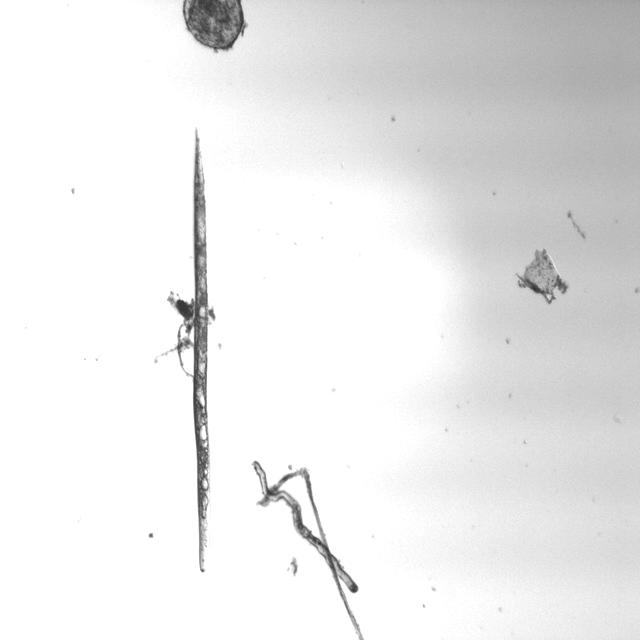Radopholus: (181, 122, 224, 576)
